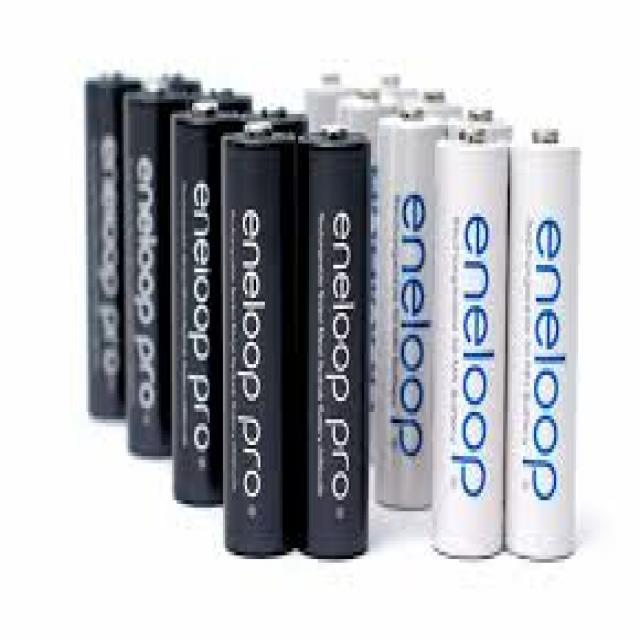battery: (222, 119, 300, 560), (506, 122, 582, 561), (302, 119, 373, 564), (172, 102, 245, 512), (438, 129, 506, 559), (380, 104, 445, 512), (125, 92, 183, 468), (85, 64, 139, 418)
